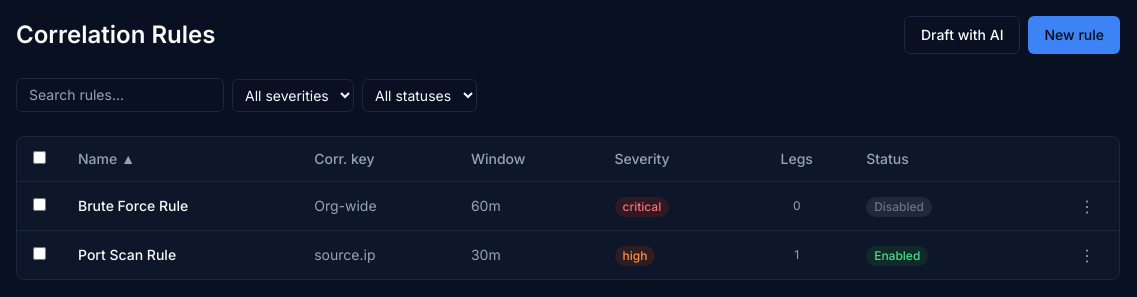
Test: CorrelationRulesAdmin › filters by enabled/disabled status
Expected: the text "Port Scan Rule" is shown, top-left (62, 230), bottom-right (298, 279)
Select "Disabled" in the dropdown named "Status filter": (420, 95) top-left (362, 78), bottom-right (477, 112)
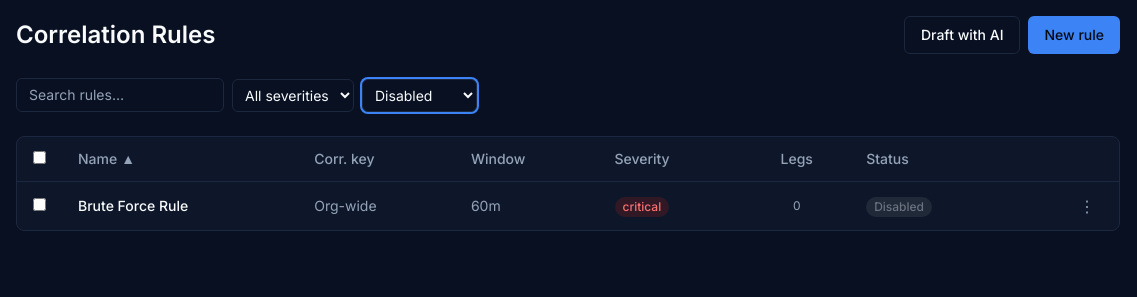
Expected: the text "Brute Force Rule" is shown, top-left (62, 182), bottom-right (298, 230)
Result: the text "Port Scan Rule" is gone
